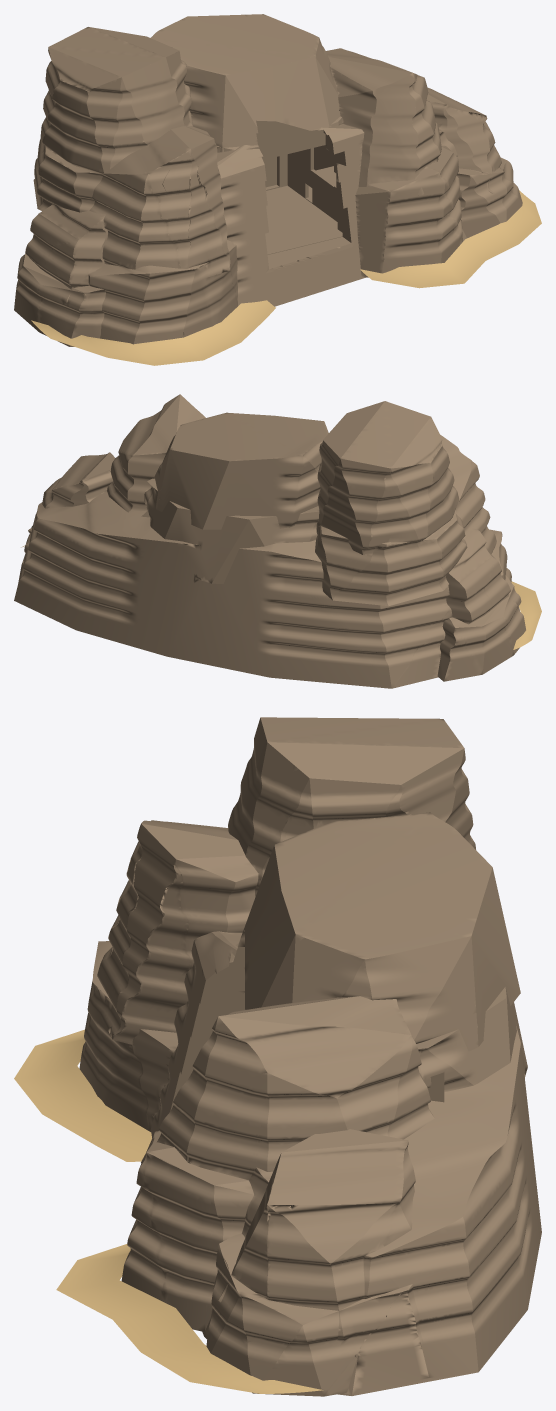
The model's file is mountain.glb.
3 views of the same model, one above another, from view 1: azimuth 30°, elevation 25°; view 2: azimuth 150°, elevation 25°; view 3: azimuth 270°, elevation 25° (orthographic). The views are drawn at different scales.
Visible parts, largest first — view 1: mountain-sandstone-low, sand-foot--1, sand-foot-1; view 2: mountain-sandstone-low, sand-foot--1; view 3: mountain-sandstone-low, sand-foot-1, sand-foot--1.
Boxes of the visible parts, <box> form: mountain-sandstone-low: <box>14,14,522,346</box>; sand-foot--1: <box>31,300,275,365</box>; sand-foot-1: <box>360,190,541,288</box>; mountain-sandstone-low: <box>14,394,525,688</box>; sand-foot--1: <box>511,581,541,649</box>; mountain-sandstone-low: <box>79,717,541,1396</box>; sand-foot-1: <box>56,1244,323,1393</box>; sand-foot--1: <box>14,1029,151,1161</box>.
Bounding box in the file's own units: 130 × 59.6 × 75.
